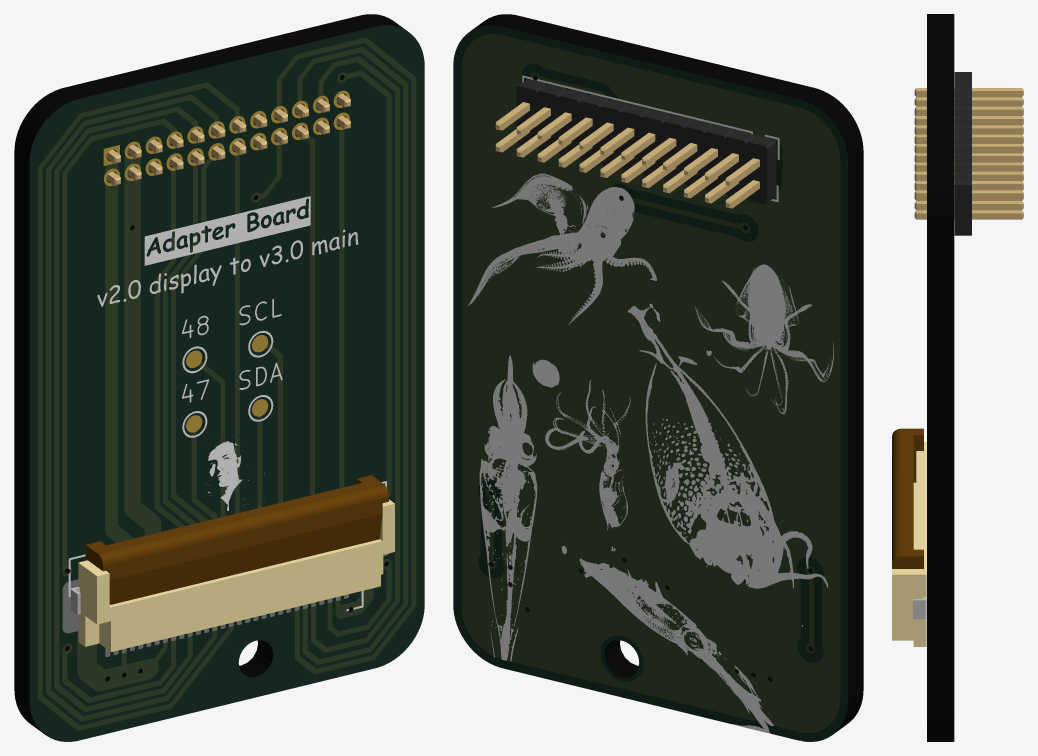
The model's file is old-display-board-adapter-v3.0.glb.
3 renders of one model, left to right at view 1: azimuth 30°, elevation 25°; view 2: azimuth 150°, elevation 25°; view 3: azimuth 270°, elevation 25°, orthographic. The views are drawn at different scales.
Visible parts, largest first — view 1: SHAPE_913, SHAPE_909, SHAPE_911, SHAPE_17, SHAPE_1, SHAPE_916, SHAPE_477, SHAPE_912; view 2: SHAPE_913, SHAPE_911, SHAPE_916, SHAPE_909, SHAPE_401, SHAPE_477; view 3: SHAPE_909, SHAPE_477, SHAPE_1, SHAPE_17, SHAPE_401, SHAPE_33.
Boxes of the visible parts, <box> form: SHAPE_913: <box>29,25,424,741</box>; SHAPE_909: <box>14,14,423,740</box>; SHAPE_911: <box>38,38,415,730</box>; SHAPE_17: <box>85,475,388,604</box>; SHAPE_1: <box>78,499,394,651</box>; SHAPE_916: <box>68,196,386,611</box>; SHAPE_477: <box>106,93,350,185</box>; SHAPE_912: <box>62,553,388,657</box>; SHAPE_913: <box>453,25,848,741</box>; SHAPE_911: <box>462,34,839,732</box>; SHAPE_916: <box>468,75,833,741</box>; SHAPE_909: <box>454,14,863,740</box>; SHAPE_401: <box>516,79,776,204</box>; SHAPE_477: <box>495,102,759,208</box>; SHAPE_909: <box>927,14,954,741</box>; SHAPE_477: <box>914,88,1023,219</box>; SHAPE_1: <box>892,441,926,646</box>; SHAPE_17: <box>892,428,923,568</box>; SHAPE_401: <box>954,72,971,235</box>; SHAPE_33: <box>913,596,926,619</box>.
Bounding box in the file's own units: 0.024 × 0.0372 × 0.0076.
